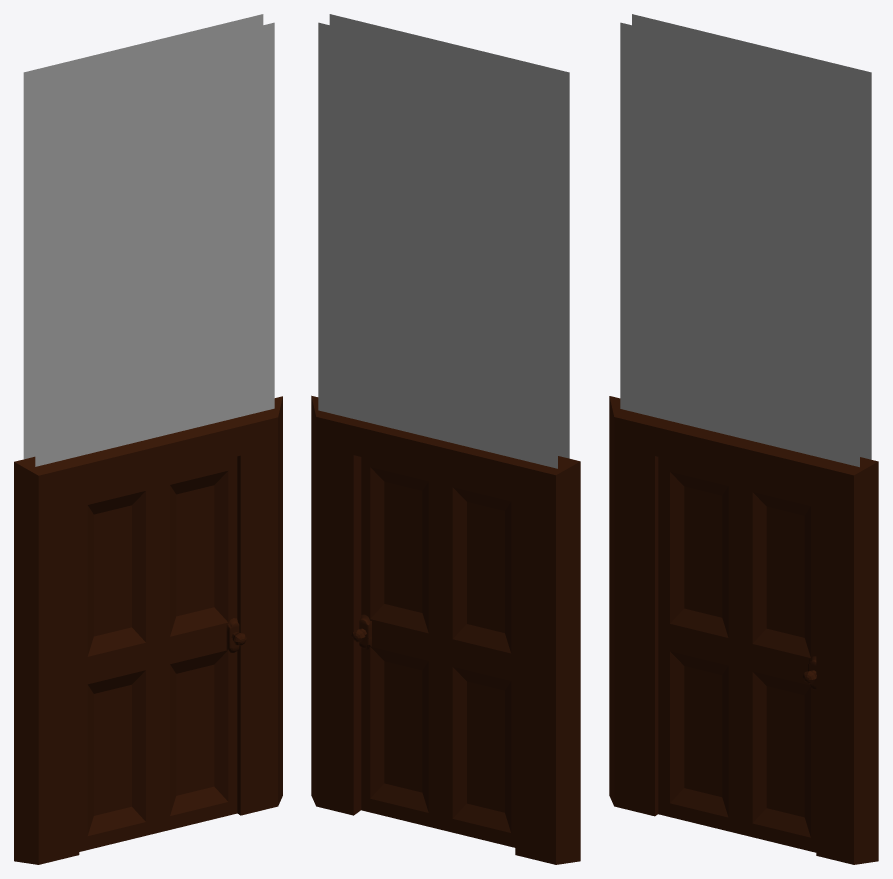
File: RegularDoor 1.fbx
3 views of the same model, side by side, from view 1: azimuth 30°, elevation 25°; view 2: azimuth 150°, elevation 25°; view 3: azimuth 330°, elevation 25° (orthographic).
Visible parts, largest first — view 1: DoorFrame, BasicDoor; view 2: DoorFrame, BasicDoor; view 3: DoorFrame, BasicDoor.
Boxes of the visible parts, x1,y1,x2,y2 form: DoorFrame: [14, 14, 282, 864]; BasicDoor: [79, 456, 246, 851]; DoorFrame: [311, 14, 580, 864]; BasicDoor: [351, 457, 515, 847]; DoorFrame: [609, 14, 878, 864]; BasicDoor: [658, 457, 816, 852].
Size of the model in its own units: 183 by 508 by 32.36.
